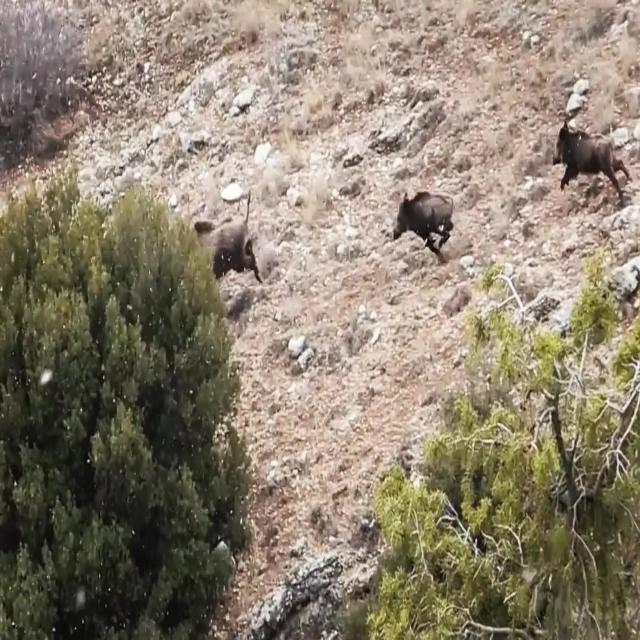pig: (543, 107, 632, 217), (386, 169, 466, 274), (192, 208, 272, 299)
